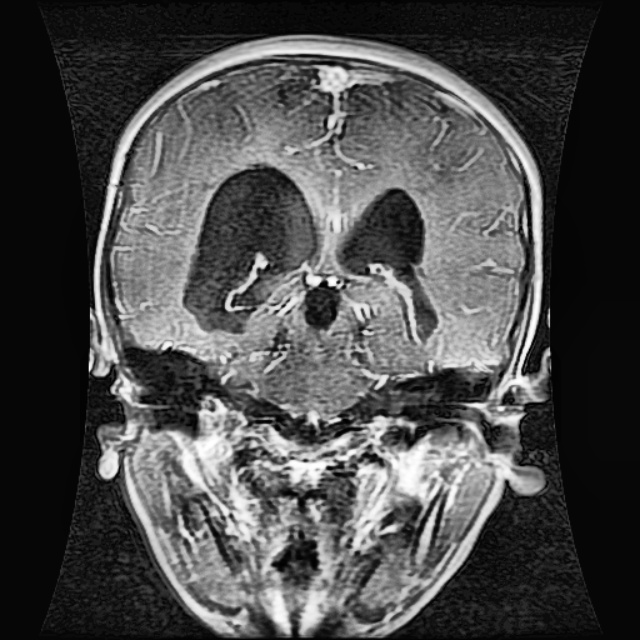Meningioma: (180, 159, 325, 335)
